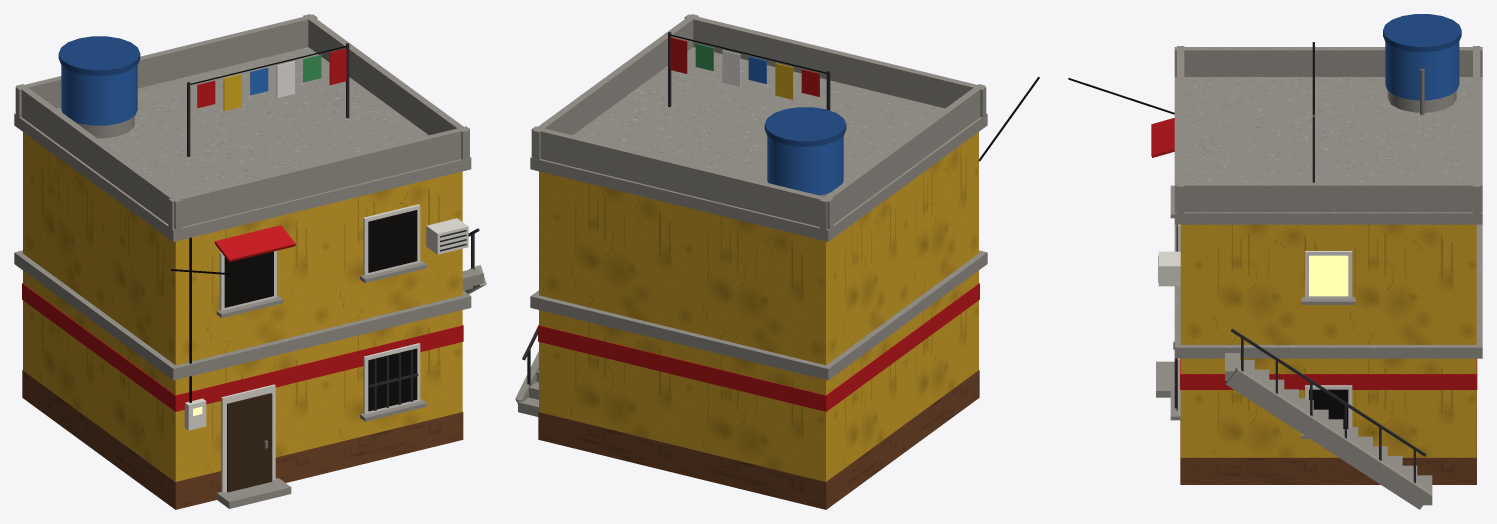
The model's file is favela-amarilla.glb.
3 renders of one model, left to right at view 1: azimuth 30°, elevation 25°; view 2: azimuth 150°, elevation 25°; view 3: azimuth 270°, elevation 25°, orthographic. The views are drawn at different scales.
Parts seen in each view (by area): view 1: amarilla_piso_1, amarilla_losa_1, amarilla_piso_0, amarilla_zocalo, amarilla_pretil_0, amarilla_losa_0, amarilla_franja, amarilla_pretil_1, amarilla_pretil_l_1, amarilla_pretil_l_0, amarilla_puerta_hoja, amarilla_caixa_cuerpo (+15 smaller); view 2: amarilla_piso_1, amarilla_piso_0, amarilla_losa_1, amarilla_zocalo, amarilla_pretil_1, amarilla_pretil_0, amarilla_franja, amarilla_losa_0, amarilla_pretil_l_1, amarilla_pretil_l_0, amarilla_tendedero, amarilla_caixa_cuerpo (+2 smaller); view 3: amarilla_piso_1, amarilla_losa_1, amarilla_piso_0, amarilla_pretil_l_0, amarilla_zocalo, amarilla_pretil_l_1, amarilla_losa_0, amarilla_escalera_zanca, amarilla_franja, amarilla_caixa_cuerpo, amarilla_escalera, amarilla_caixa_tapa (+10 smaller).
Part boxes in pixels (left/top/right/bottom): amarilla_piso_1: left=23, top=132, right=462, bottom=365; amarilla_losa_1: left=14, top=47, right=471, bottom=241; amarilla_piso_0: left=23, top=270, right=462, bottom=481; amarilla_zocalo: left=22, top=370, right=463, bottom=509; amarilla_pretil_0: left=168, top=126, right=469, bottom=229; amarilla_losa_0: left=14, top=250, right=471, bottom=380; amarilla_franja: left=22, top=283, right=463, bottom=411; amarilla_pretil_1: left=15, top=14, right=317, bottom=117; amarilla_pretil_l_1: left=16, top=84, right=182, bottom=229; amarilla_pretil_l_0: left=303, top=14, right=469, bottom=159; amarilla_puerta_hoja: left=227, top=393, right=272, bottom=492; amarilla_caixa_cuerpo: left=61, top=65, right=137, bottom=125; amarilla_piso_1: left=539, top=132, right=978, bottom=365; amarilla_piso_0: left=539, top=270, right=978, bottom=481; amarilla_losa_1: left=530, top=47, right=987, bottom=241; amarilla_zocalo: left=538, top=370, right=979, bottom=509; amarilla_pretil_1: left=531, top=126, right=833, bottom=229; amarilla_pretil_0: left=684, top=14, right=986, bottom=117; amarilla_franja: left=538, top=283, right=979, bottom=411; amarilla_losa_0: left=530, top=250, right=987, bottom=380; amarilla_pretil_l_1: left=819, top=84, right=985, bottom=229; amarilla_pretil_l_0: left=532, top=14, right=698, bottom=159; amarilla_tendedero: left=668, top=32, right=830, bottom=110; amarilla_caixa_cuerpo: left=767, top=136, right=843, bottom=195; amarilla_piso_1: left=1180, top=224, right=1476, bottom=344; amarilla_losa_1: left=1174, top=77, right=1482, bottom=224; amarilla_piso_0: left=1180, top=358, right=1476, bottom=457; amarilla_pretil_l_0: left=1174, top=182, right=1482, bottom=212; amarilla_zocalo: left=1180, top=390, right=1476, bottom=484; amarilla_pretil_l_1: left=1174, top=47, right=1482, bottom=76; amarilla_losa_0: left=1174, top=224, right=1482, bottom=358; amarilla_escalera_zanca: left=1226, top=367, right=1431, bottom=509; amarilla_franja: left=1180, top=358, right=1477, bottom=389; amarilla_caixa_cuerpo: left=1385, top=42, right=1459, bottom=100; amarilla_escalera: left=1225, top=337, right=1432, bottom=505; amarilla_caixa_tapa: left=1383, top=14, right=1461, bottom=52.
Size of the model in its own units: 7.7 by 7.79 by 8.4.
Materials: 20 (4 with a texture image).
